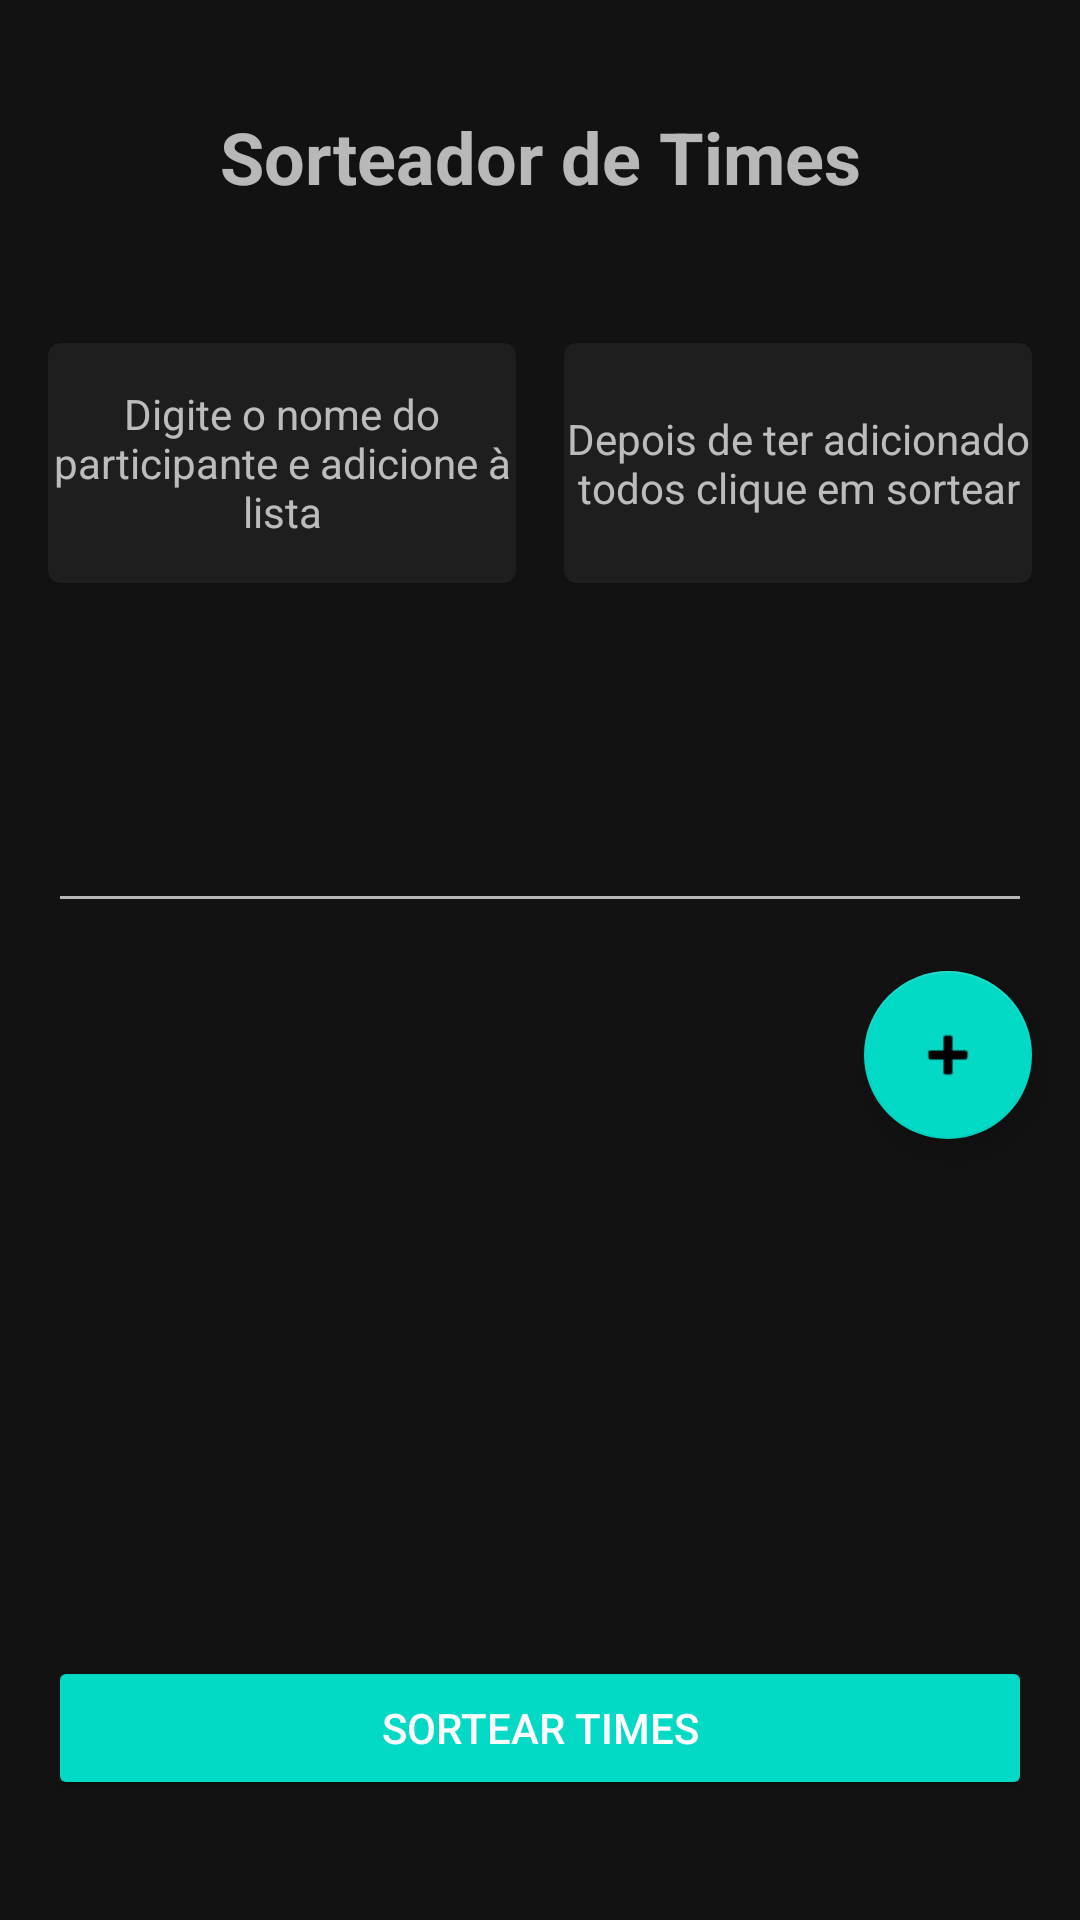

Icons on this 1080px x 1920px Android screen, each with its box as (x1,y1,x2,y2):
add: (864,971,1032,1139)
